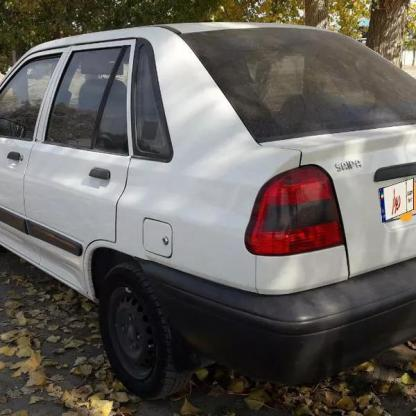Car: (0, 16, 416, 376)
